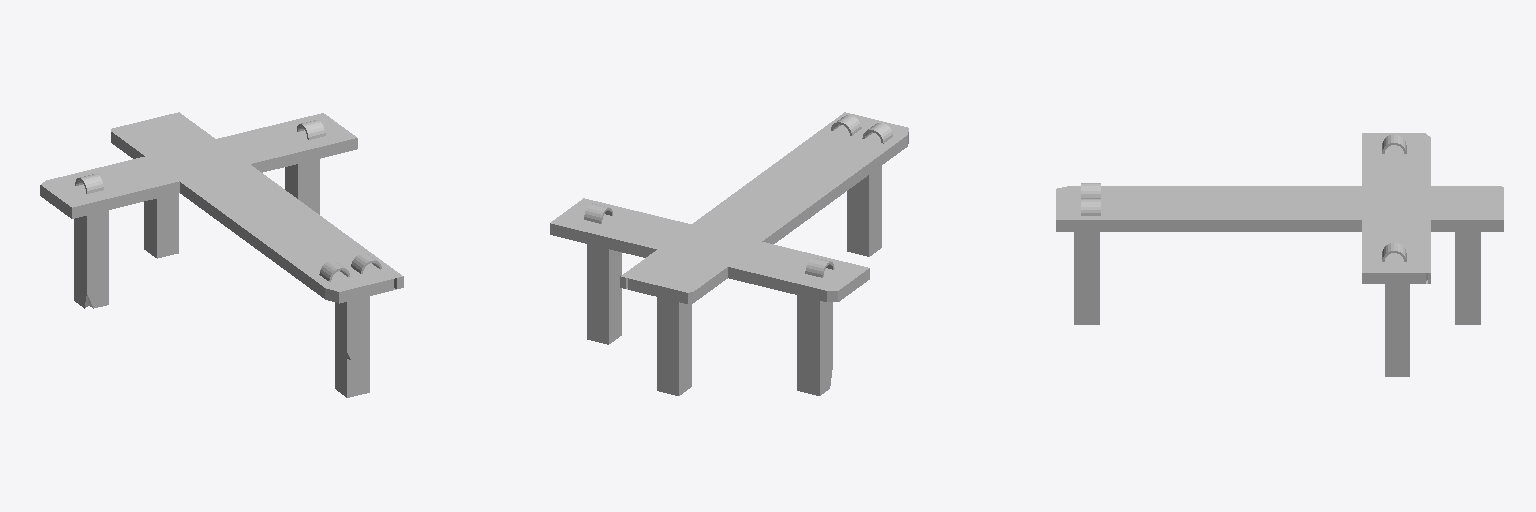
File: torture_device_8_001.obj
3 views of the same model, side by side, from view 1: azimuth 30°, elevation 25°; view 2: azimuth 150°, elevation 25°; view 3: azimuth 270°, elevation 25° (orthographic).
Visible parts, largest first — view 1: torture_device_008; view 2: torture_device_008; view 3: torture_device_008.
Boxes of the visible parts, x1,y1,x2,y2 form: torture_device_008: [40, 112, 403, 397]; torture_device_008: [550, 112, 908, 395]; torture_device_008: [1056, 133, 1503, 376].
Size of the model in its own units: 1.73 by 0.7419 by 2.35.